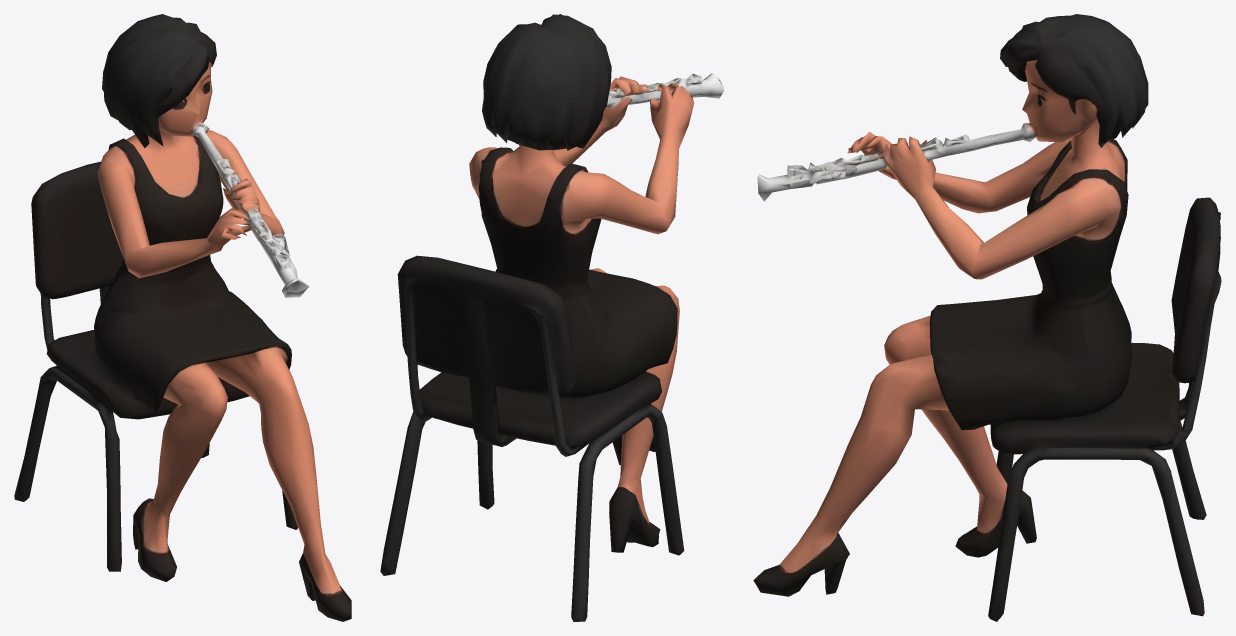
Rendered from flutist.glb.
The picture shows the model from 3 angles, left to right: view 1: azimuth 30°, elevation 25°; view 2: azimuth 150°, elevation 25°; view 3: azimuth 270°, elevation 25°; orthographic projection. The views are drawn at different scales.
Visible parts, largest first — view 1: tripo_node_c79805d8-4a88-4d5d-82ce-69e7d2c20e16; view 2: tripo_node_c79805d8-4a88-4d5d-82ce-69e7d2c20e16; view 3: tripo_node_c79805d8-4a88-4d5d-82ce-69e7d2c20e16.
Boxes of the visible parts, box(x1,y1,x2,y2) form: tripo_node_c79805d8-4a88-4d5d-82ce-69e7d2c20e16: box(14, 14, 351, 621); tripo_node_c79805d8-4a88-4d5d-82ce-69e7d2c20e16: box(380, 14, 724, 621); tripo_node_c79805d8-4a88-4d5d-82ce-69e7d2c20e16: box(753, 14, 1221, 621).
Size of the model in its own units: 0.4973 by 1.25 by 0.9531.
1 material, 1 textured.
